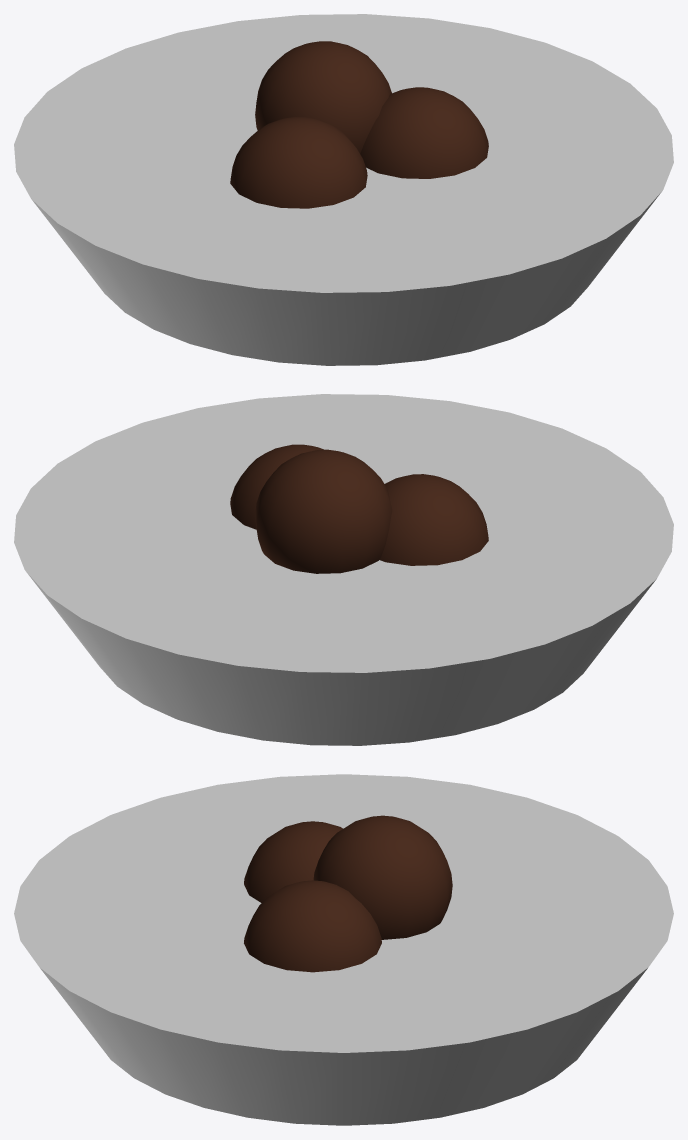
The model's file is gulab-jamun.glb.
The picture shows the model from 3 angles, top to bottom: view 1: azimuth 30°, elevation 25°; view 2: azimuth 150°, elevation 25°; view 3: azimuth 270°, elevation 25°; orthographic projection.
Size of the model in its own units: 1.7 by 0.56 by 1.7.
